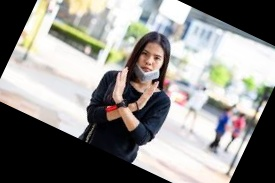mask_weared_incorrect: (132, 35, 167, 85)
